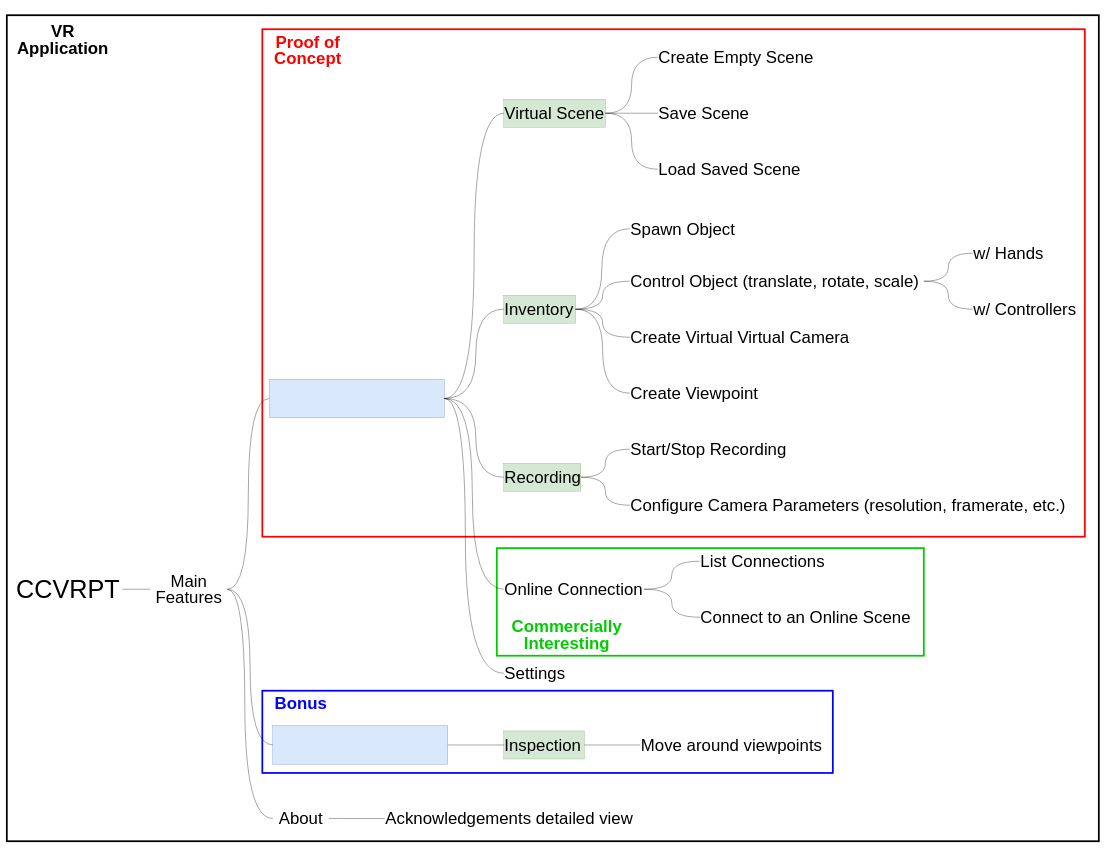
Image size: 1106x849. Some labels were removed from this diagram. Each missing label, with the centre of its shape:
"Main Device (Oculus Quest - 6DoF)" belongs at pixel 356 398.
"Supporting Device (Cardboard - 3DoF)" belongs at pixel 360 744.
